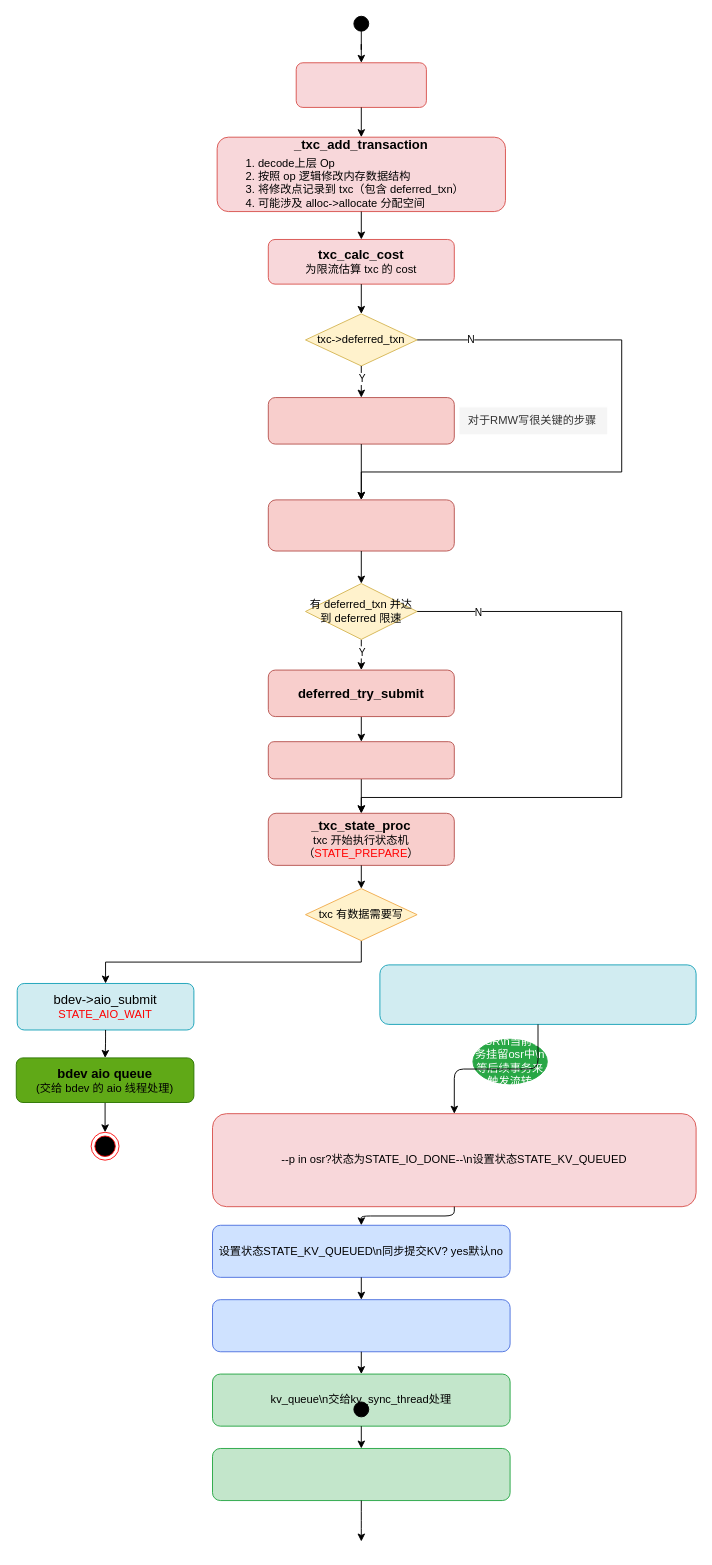
Image size: 712x1565. Some labels were removed from this diagram. Each missing label, with the centre of its shape:
"_txc_create 创建事务" goes at (x=360, y=84).
"_txc_finalize_kv 更新 FreeListManager pool 容量信息更新到 txc->t" goes at (x=360, y=525).
"db->submit_transaction\n设置状态STATE_KV_SUBMITTED" goes at (x=361, y=1325).
"deferred_txn 编码成 KV 放入 DB 事务放 txc->t" goes at (x=360, y=420).
"kv_queue_unsubmitted\n交给kv_sync_thread处理" goes at (x=361, y=1474).
"设置状态STATE_IO_DONE\nOSR: 当前事务挂起osr中等后续事务来触发交替" goes at (x=537, y=994).
"阻塞等 defered 限速" goes at (x=360, y=760).
